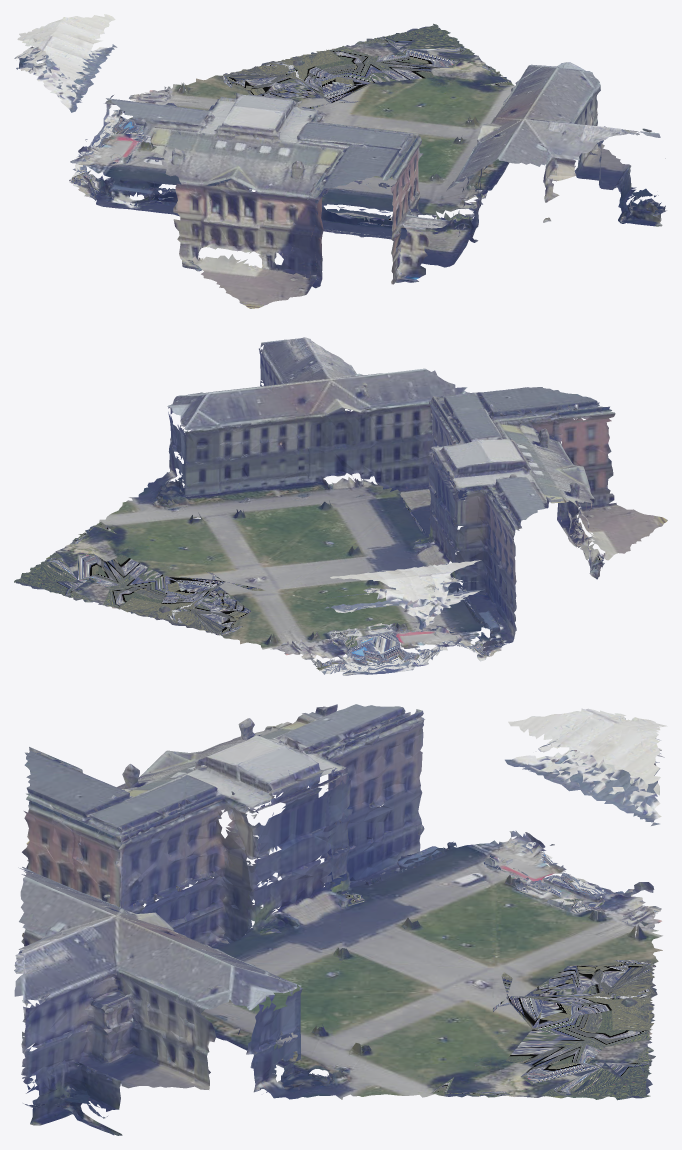
3 views of the same model, one above another, from view 1: azimuth 30°, elevation 25°; view 2: azimuth 150°, elevation 25°; view 3: azimuth 270°, elevation 25° (orthographic). The views are drawn at different scales.
Size of the model in its own units: 104 by 31.49 by 105.
1 material, 1 textured.
